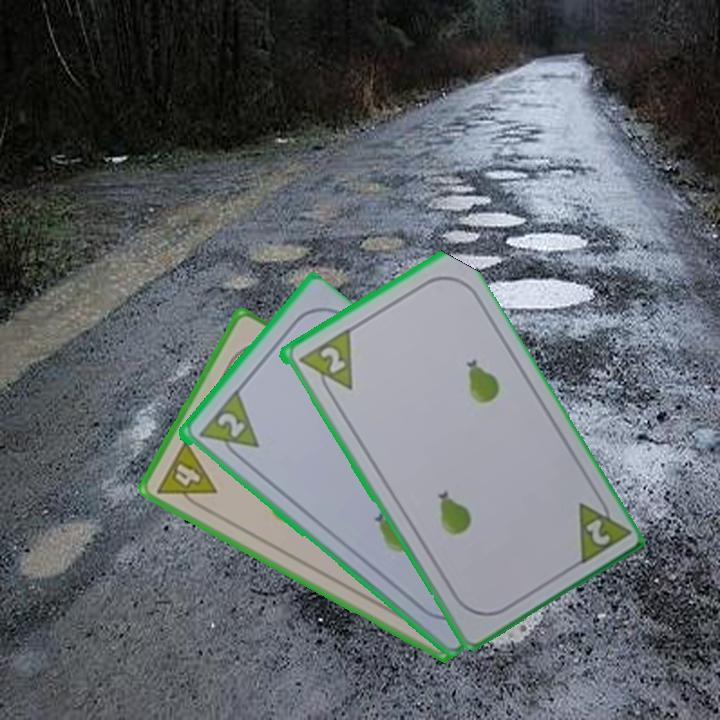2p: (213, 408, 248, 441), (315, 342, 348, 376), (581, 515, 613, 548)
4p: (152, 436, 220, 515)
